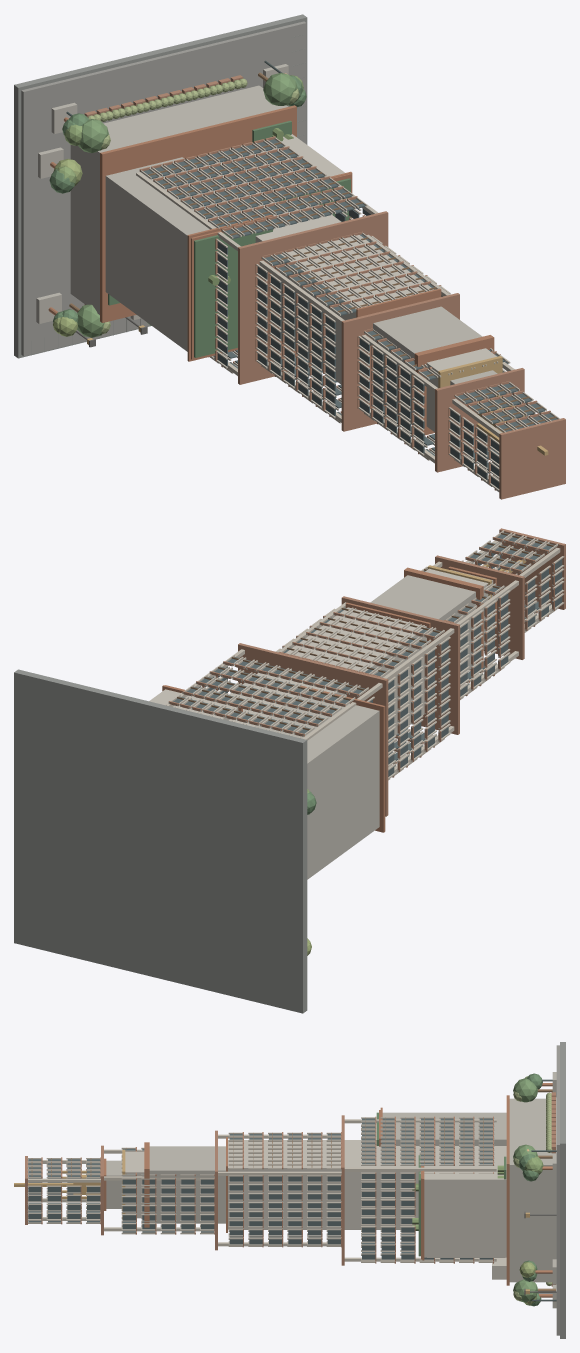
Rendered from art-deco-tower.glb.
3 renders of one model, top to bottom at view 1: azimuth 30°, elevation 25°; view 2: azimuth 150°, elevation 25°; view 3: azimuth 270°, elevation 25°, orthographic. The views are drawn at different scales.
Visible parts, largest first — view 1: sidewalk_1, lower_west_wing_42, ground_floor_40, main_tower_46, ground_roof_trim_41, V2_01404_Setback copper cornice, foundation_0, V2_03261_Setback copper cornice, roof_garden_122, V2_02333_Setback copper cornice, tower_setback_47, V2_02928_Setback copper cornice (+12 smaller); view 2: foundation_0, lower_west_wing_42, main_tower_46, tower_setback_47, V2_01404_Setback copper cornice, V2_02333_Setback copper cornice, V2_02928_Setback copper cornice, V2_03261_Setback copper cornice, cornice_205, lower_east_wing_44; view 3: main_tower_46, lower_east_wing_44, ground_floor_40, tower_setback_47, lower_west_wing_42, foundation_0, sidewalk_1, crown_lower_49, crown_upper_51, ground_roof_trim_41, V2_01403_Vertical corner pier, V2_02332_Vertical corner pier (+4 smaller).
Part boxes in pixels (x1,y1,x2,y2): sidewalk_1: (21, 21, 306, 356); lower_west_wing_42: (105, 157, 260, 351); ground_floor_40: (70, 85, 287, 314); main_tower_46: (198, 161, 433, 384); ground_roof_trim_41: (100, 105, 296, 322); V2_01404_Setback copper cornice: (238, 211, 388, 384); foundation_0: (14, 14, 307, 358); V2_03261_Setback copper cornice: (499, 418, 565, 499); roof_garden_122: (194, 226, 272, 357); V2_02333_Setback copper cornice: (341, 293, 459, 431); tower_setback_47: (373, 306, 481, 424); V2_02928_Setback copper cornice: (435, 368, 524, 472); foundation_0: (14, 669, 307, 1013); lower_west_wing_42: (255, 693, 379, 879); main_tower_46: (228, 607, 426, 735); tower_setback_47: (370, 575, 475, 675); V2_01404_Setback copper cornice: (238, 643, 388, 816); V2_02333_Setback copper cornice: (341, 596, 459, 734); V2_02928_Setback copper cornice: (435, 555, 524, 659); V2_03261_Setback copper cornice: (499, 528, 565, 609); cornice_205: (300, 685, 385, 832); lower_east_wing_44: (149, 689, 238, 720); main_tower_46: (228, 1140, 506, 1229); lower_east_wing_44: (424, 1154, 506, 1257); ground_floor_40: (509, 1098, 556, 1282); tower_setback_47: (149, 1146, 225, 1223); lower_west_wing_42: (382, 1112, 506, 1145); foundation_0: (560, 1042, 565, 1338); sidewalk_1: (556, 1045, 559, 1335); crown_lower_49: (125, 1151, 144, 1218); crown_upper_51: (106, 1160, 122, 1208); ground_roof_trim_41: (506, 1095, 509, 1285); V2_01403_Vertical corner pier: (344, 1167, 496, 1171); V2_02332_Vertical corner pier: (218, 1171, 341, 1175).
Bounding box in the file's own units: 19 × 17 × 43.58.
